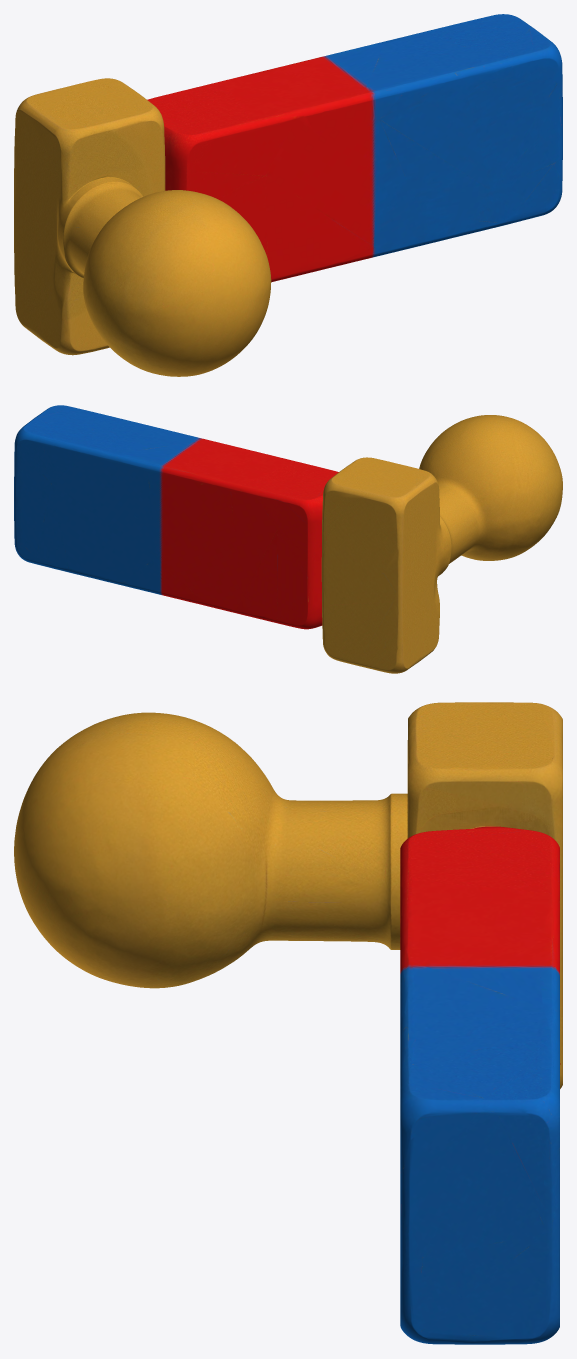
File: remote-handle.glb
The picture shows the model from 3 angles, top to bottom: view 1: azimuth 30°, elevation 25°; view 2: azimuth 150°, elevation 25°; view 3: azimuth 270°, elevation 25°; orthographic projection. The views are drawn at different scales.
Bounding box in the file's own units: 0.0513 × 0.02 × 0.0299.
1 material, 1 textured.
